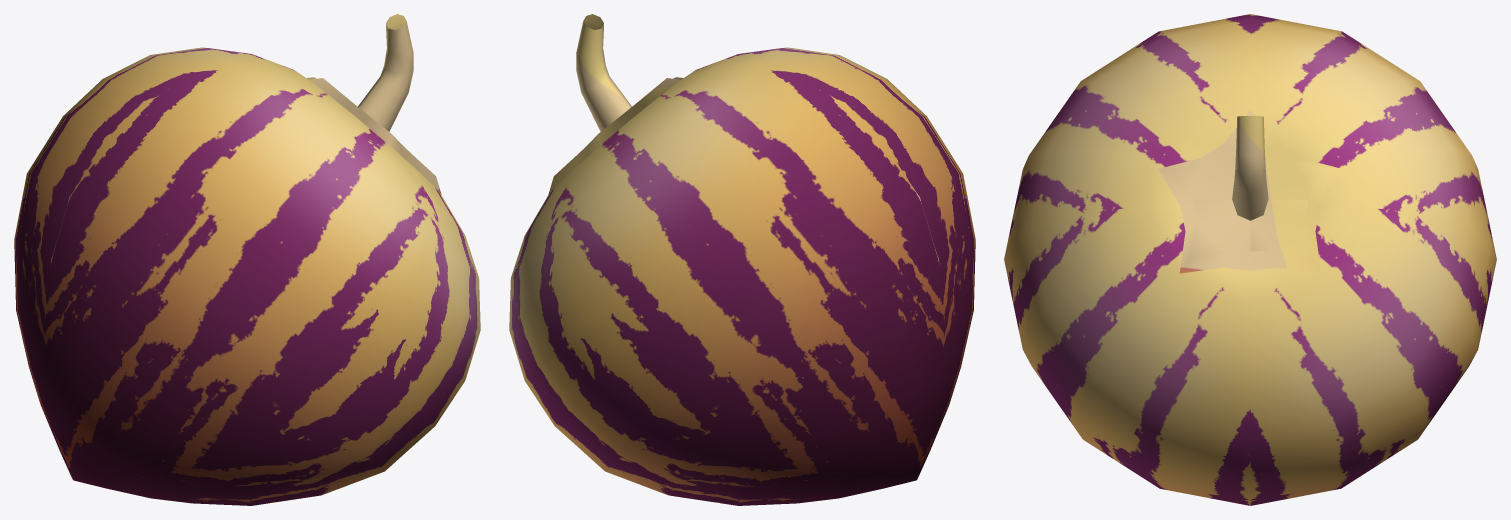
The model's file is Lucuma.fbx.
3 views of the same model, side by side, from view 1: azimuth 30°, elevation 25°; view 2: azimuth 150°, elevation 25°; view 3: azimuth 270°, elevation 25° (orthographic).
Visible parts, largest first — view 1: Lucuma; view 2: Lucuma; view 3: Lucuma.
Boxes of the visible parts, box(x1,y1,x2,y2) form: Lucuma: box(14, 14, 480, 505); Lucuma: box(509, 14, 975, 505); Lucuma: box(1004, 14, 1496, 505).
Bounding box in the file's own units: 31.76 × 32.52 × 33.44.
